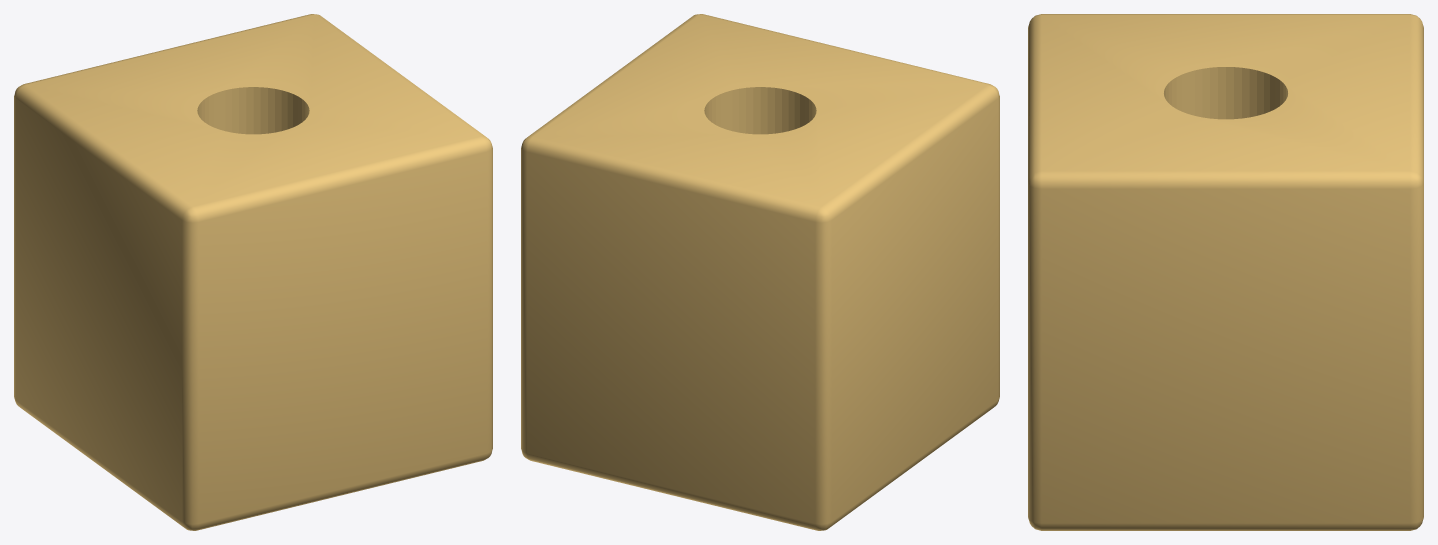
The model's file is spacer-07-gold.glb.
3 views of the same model, side by side, from view 1: azimuth 30°, elevation 25°; view 2: azimuth 150°, elevation 25°; view 3: azimuth 270°, elevation 25° (orthographic). The views are drawn at different scales.
Parts seen in each view (by area): view 1: Cube; view 2: Cube; view 3: Cube.
Boxes of the visible parts, x1,y1,x2,y2 form: Cube: (14, 14, 492, 530); Cube: (521, 14, 999, 530); Cube: (1028, 14, 1423, 530).
Size of the model in its own units: 0.0035 by 0.0035 by 0.0035.
